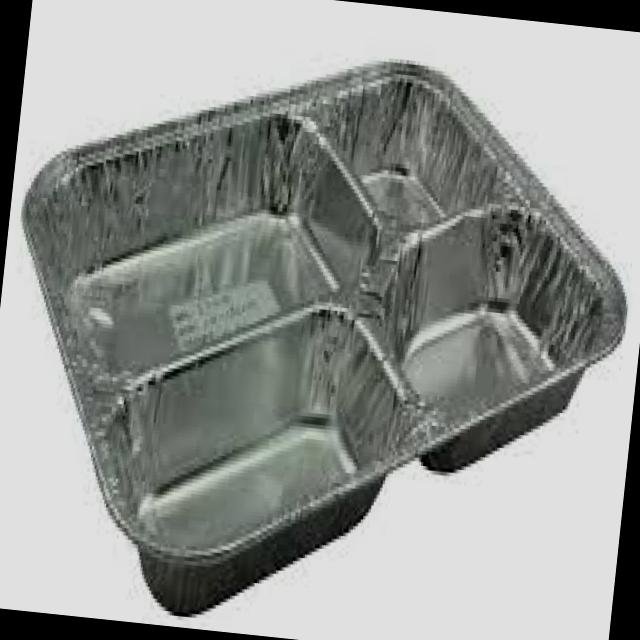kim_loai: (22, 65, 628, 615)
